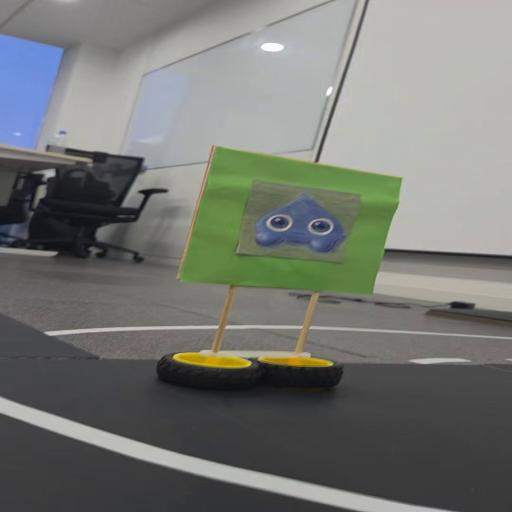Sign_B: (174, 144, 398, 398)
